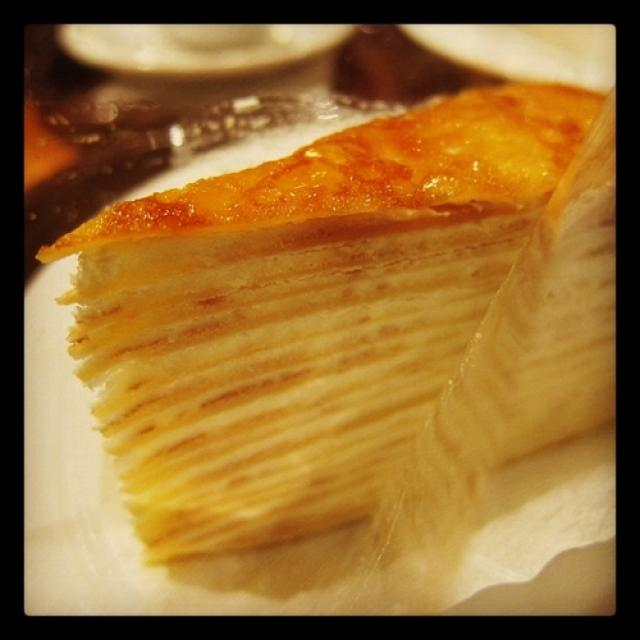面条主食: (65, 71, 556, 571)
